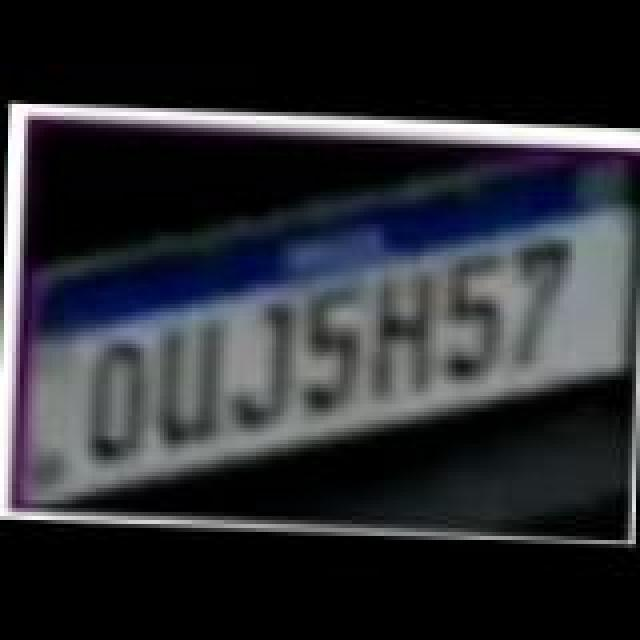5: (426, 248, 518, 384), (288, 282, 376, 418)
7: (504, 232, 584, 368)
H: (354, 262, 454, 402)
J: (218, 296, 314, 432)
O: (70, 332, 166, 468)
U: (142, 318, 238, 454)
